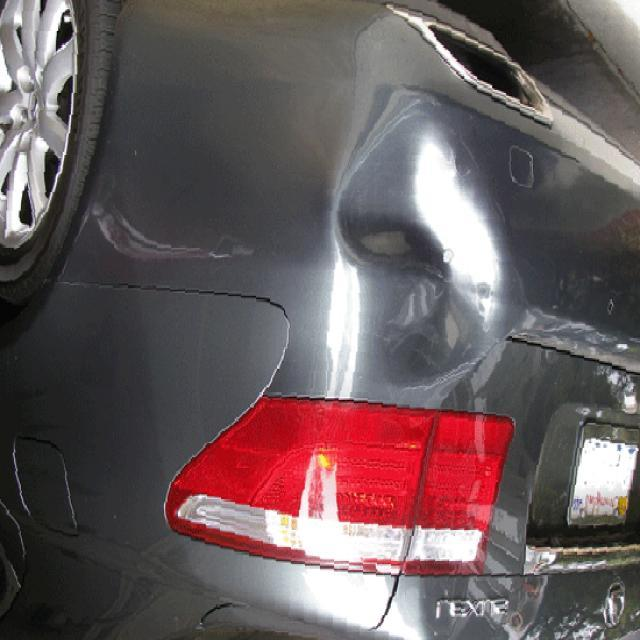dent: (328, 85, 511, 372)
